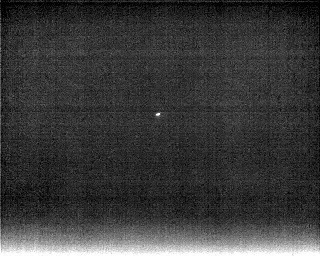BIRD: (154, 110, 163, 119)
